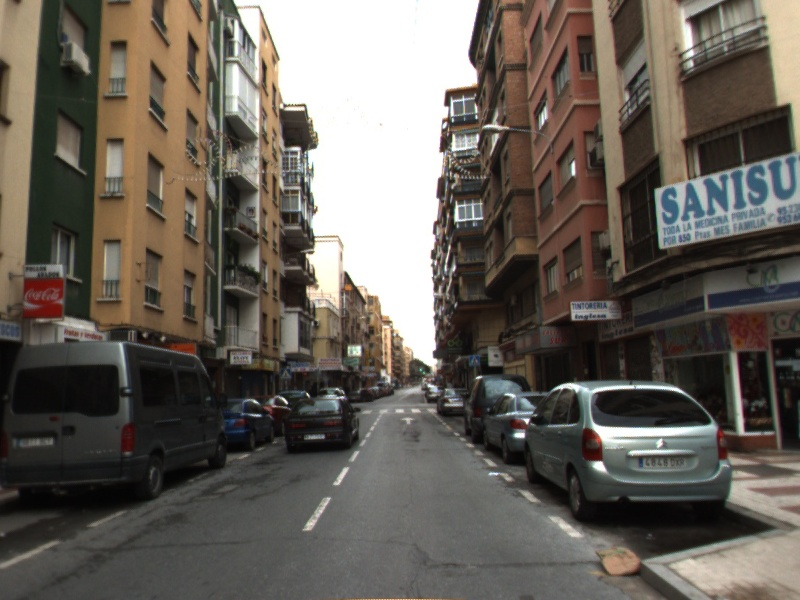STRAIGHT: (399, 415, 418, 426)
